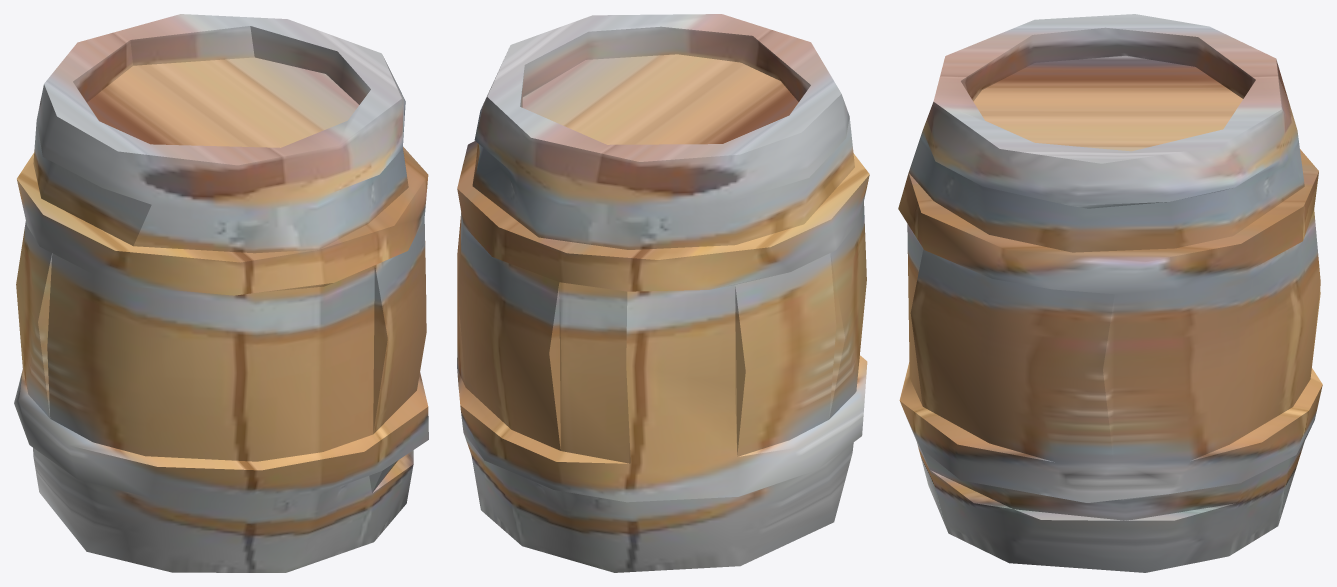
The picture shows the model from 3 angles, left to right: view 1: azimuth 30°, elevation 25°; view 2: azimuth 150°, elevation 25°; view 3: azimuth 270°, elevation 25°; orthographic projection.
Parts seen in each view (by area): view 1: Decor_wooden_barrel; view 2: Decor_wooden_barrel; view 3: Decor_wooden_barrel.
Boxes of the visible parts, box(x1,y1,x2,y2) form: Decor_wooden_barrel: box(14, 14, 428, 572); Decor_wooden_barrel: box(457, 14, 869, 572); Decor_wooden_barrel: box(898, 14, 1322, 572).
Size of the model in its own units: 0.8178 by 0.8956 by 0.8372.
Materials: 1 (1 with a texture image).
